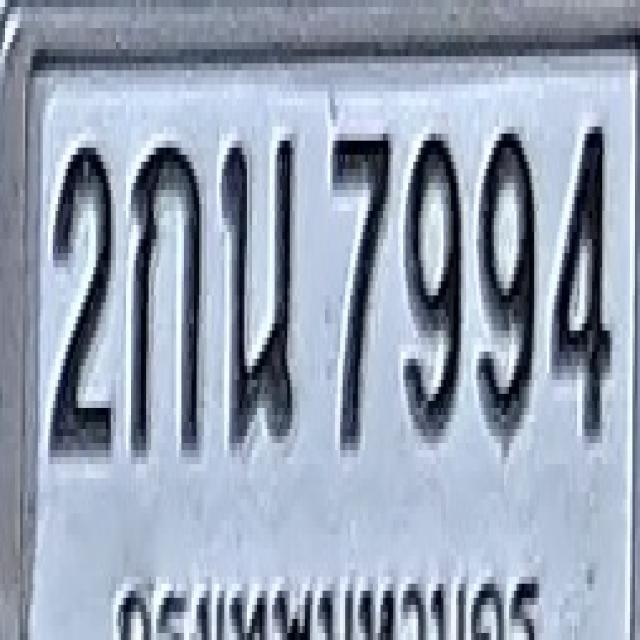2: (49, 144, 112, 454)
4: (551, 120, 611, 436)
7: (331, 127, 392, 450)
9: (478, 123, 536, 440), (403, 127, 461, 436)
A01: (128, 137, 202, 454)
A25: (221, 134, 296, 443)
